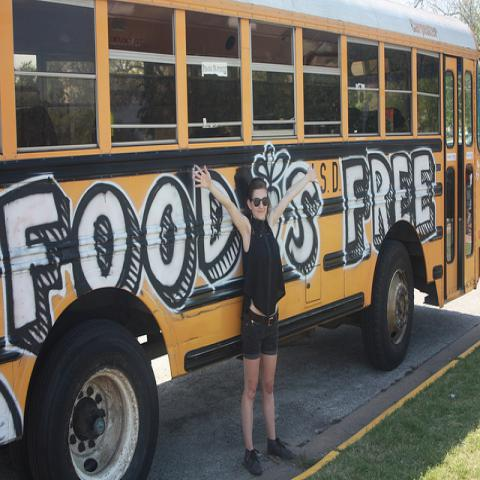bus: (0, 1, 480, 467)
